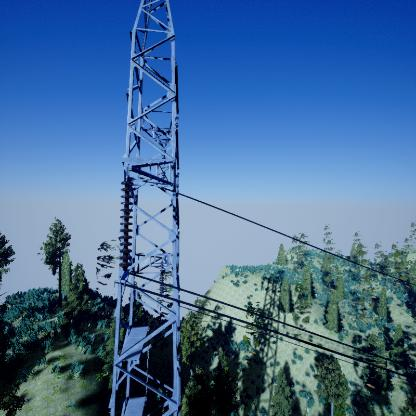insulator: (117, 180, 135, 272)
